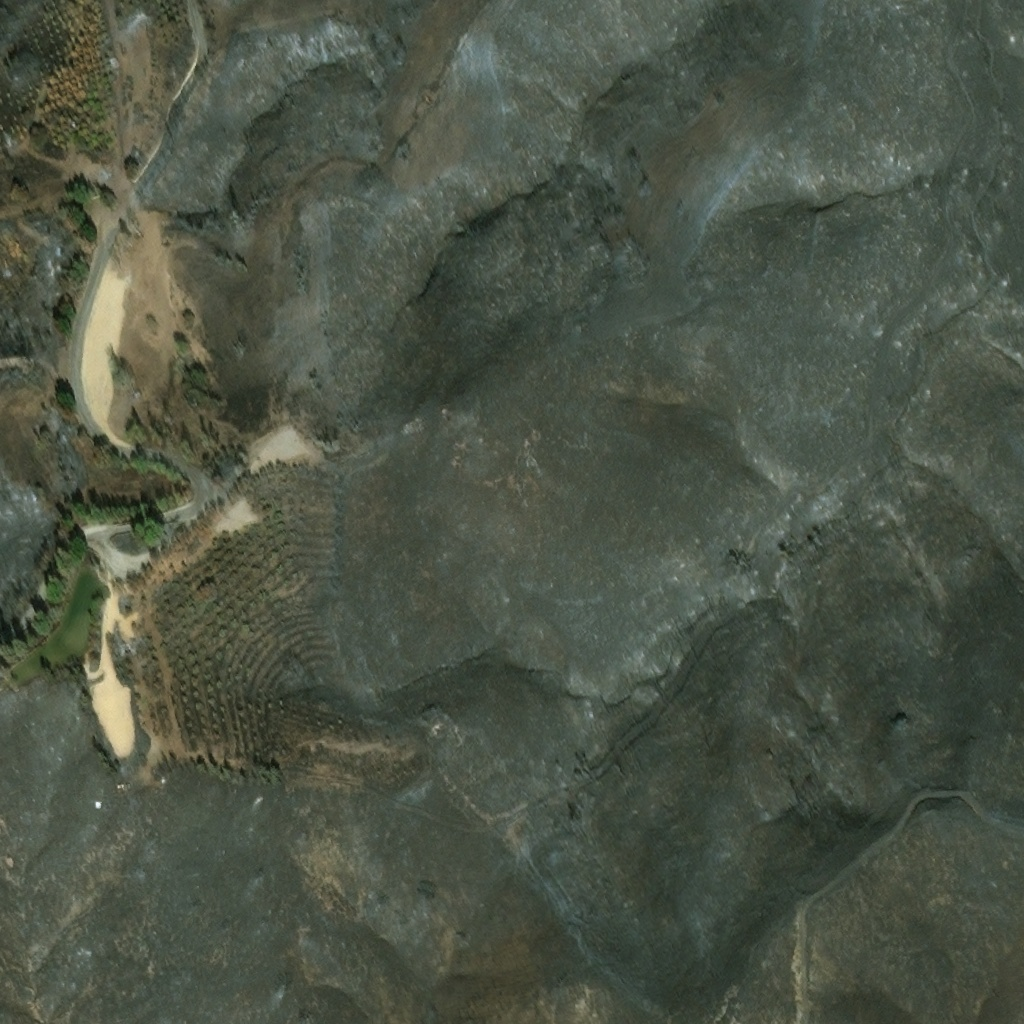3 destroyed: (124, 783, 133, 794), (117, 784, 124, 794)
